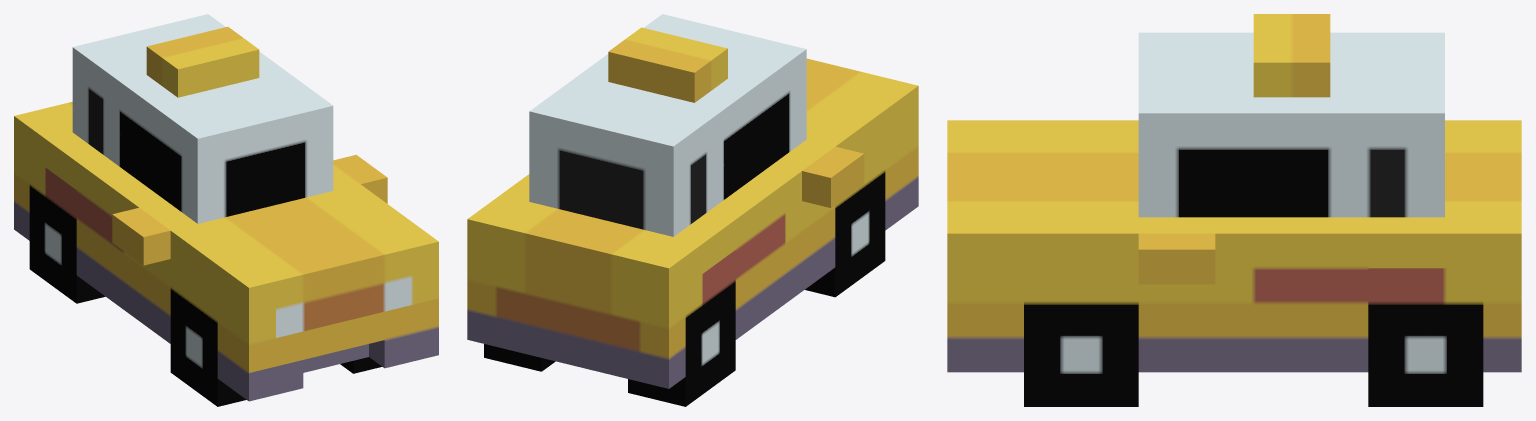
The model's file is Taxi.obj.
The picture shows the model from 3 angles, left to right: view 1: azimuth 30°, elevation 25°; view 2: azimuth 150°, elevation 25°; view 3: azimuth 270°, elevation 25°; orthographic projection. The views are drawn at different scales.
Visible parts, largest first — view 1: Taxi; view 2: Taxi; view 3: Taxi.
Part boxes in pixels (bbox=[...]): Taxi: bbox=[14, 14, 438, 406]; Taxi: bbox=[467, 14, 918, 406]; Taxi: bbox=[947, 14, 1521, 406].
Bounding box in the file's own units: 1.08 × 1.08 × 1.8.
Materials: 1 (1 with a texture image).
